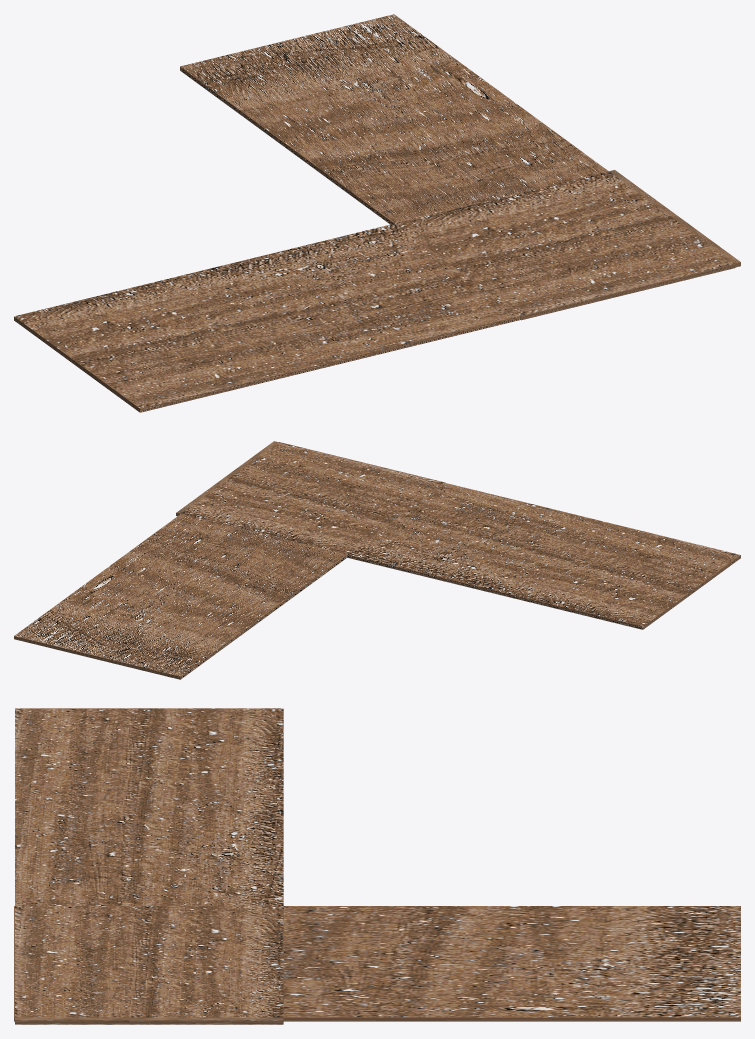
The model's file is RouteGaucheVersHaut.dae.
3 renders of one model, top to bottom at view 1: azimuth 30°, elevation 25°; view 2: azimuth 150°, elevation 25°; view 3: azimuth 270°, elevation 25°, orthographic. The views are drawn at different scales.
Visible parts, largest first — view 1: Cube; view 2: Cube; view 3: Cube.
Boxes of the visible parts, x1,y1,x2,y2 form: Cube: [14, 14, 740, 412]; Cube: [14, 441, 740, 679]; Cube: [14, 708, 740, 1024].
Size of the model in its own units: 3.69 by 3.63 by 0.0239.
Materials: 1 (1 with a texture image).
